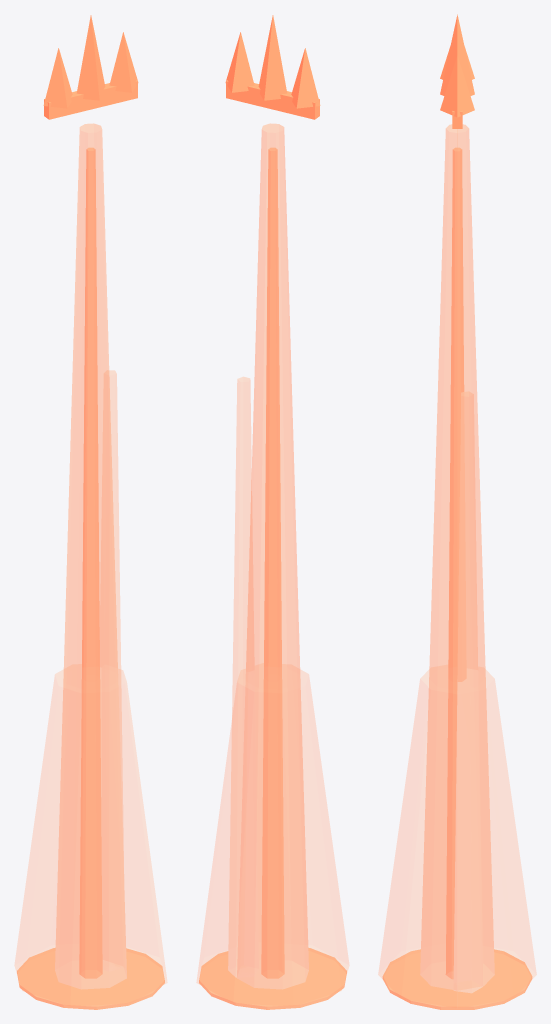
The model's file is fx_drop_named.glb.
3 renders of one model, left to right at view 1: azimuth 30°, elevation 25°; view 2: azimuth 150°, elevation 25°; view 3: azimuth 270°, elevation 25°, orthographic.
Parts seen in each view (by area): view 1: fx_drop_named; view 2: fx_drop_named; view 3: fx_drop_named.
Part boxes in pixels (<box>): fx_drop_named: <box>14,15,167,1009</box>; fx_drop_named: <box>196,15,349,1009</box>; fx_drop_named: <box>378,14,536,1009</box>.
Size of the model in its own units: 0.68 by 4.56 by 0.68.
